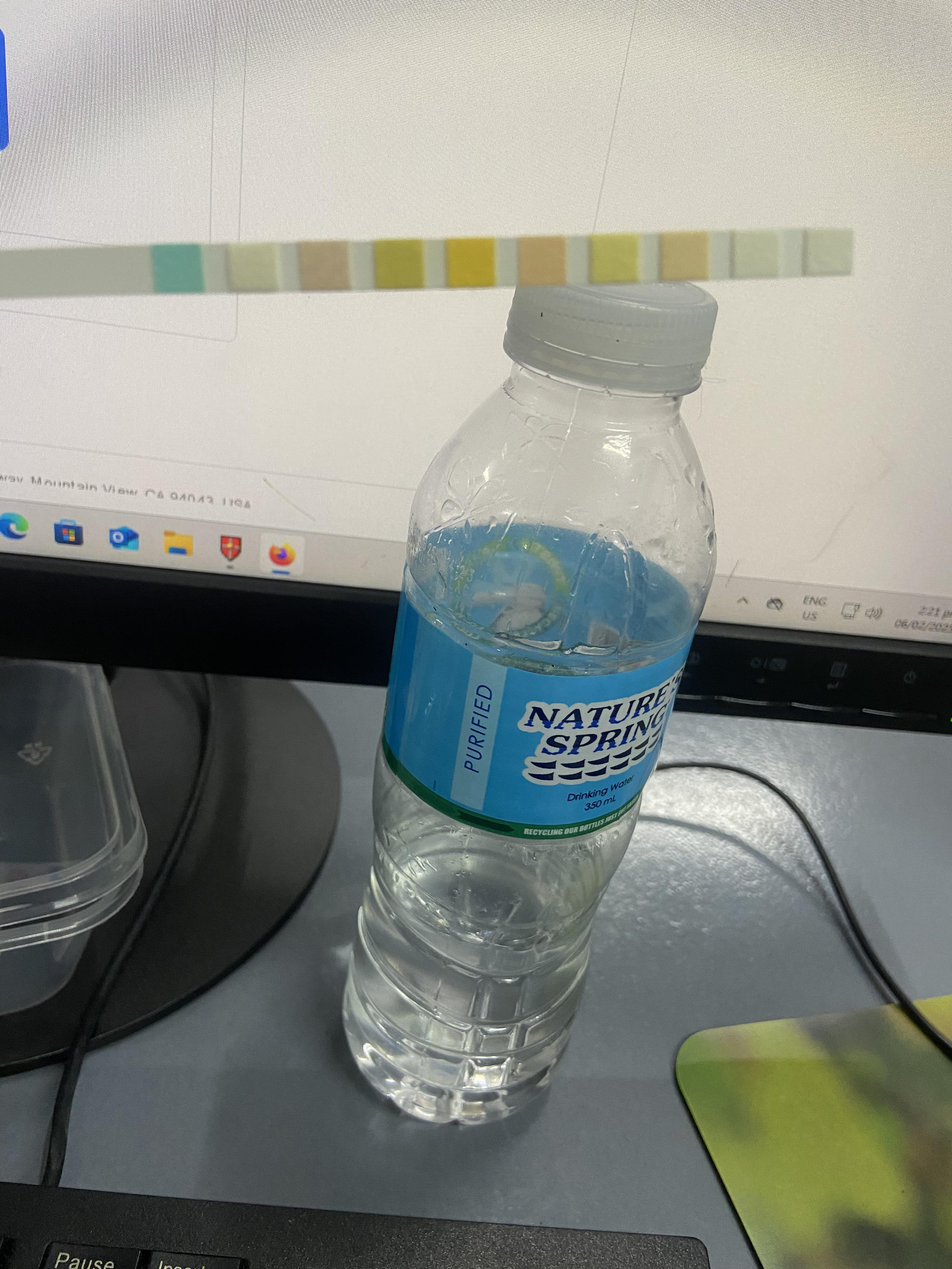Bilirubin: (231, 244, 278, 291)
Blood: (447, 239, 496, 286)
Glucose: (154, 246, 200, 292)
Ketone: (300, 242, 348, 291)
Leukocytes: (804, 229, 851, 274)
Nitrite: (730, 230, 780, 276)
Protein: (591, 236, 638, 282)
SpGravity: (375, 242, 424, 288)
Urobilinogen: (659, 232, 709, 280)
pH: (518, 238, 566, 285)
strip: (2, 228, 854, 299)
